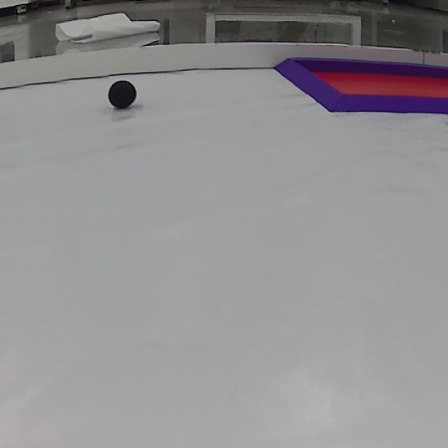black: (102, 80, 142, 112)
red_aim: (270, 50, 445, 116)
